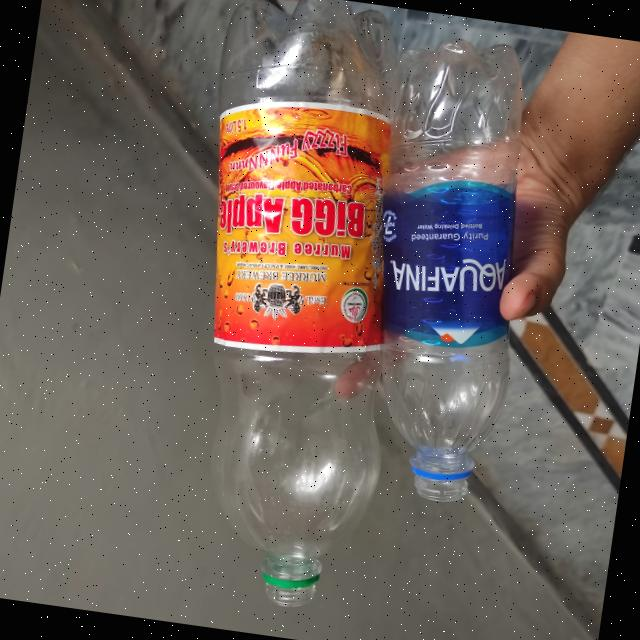bottle: (146, 21, 418, 616), (336, 38, 536, 502)
label: (190, 105, 390, 362), (369, 171, 513, 355)
